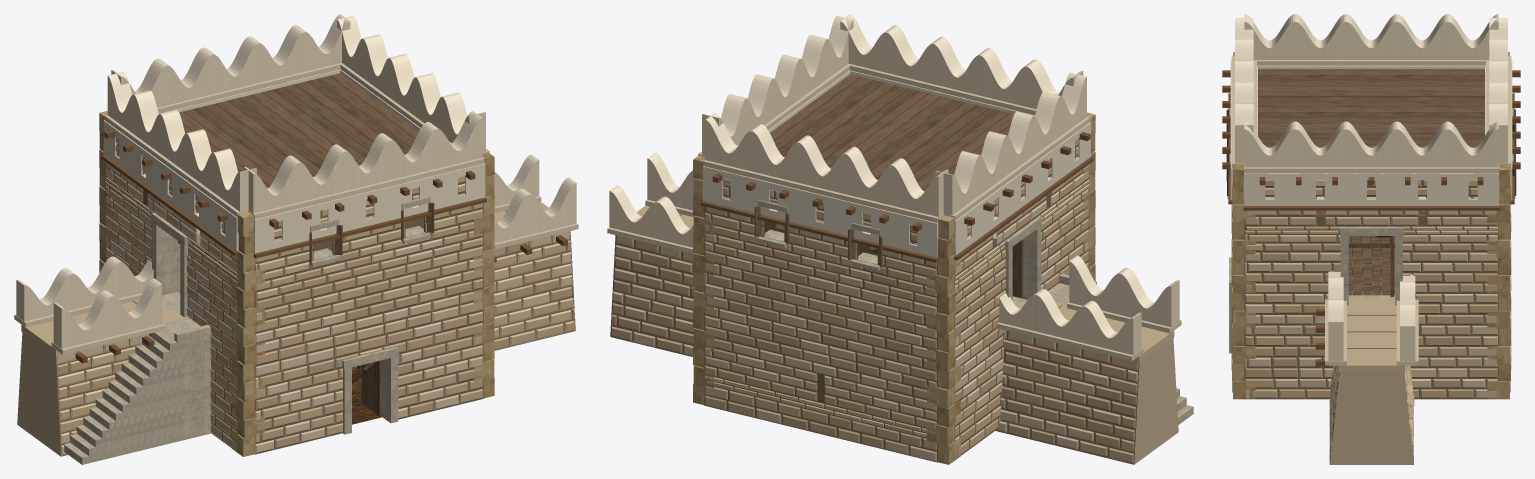
Rendered from stonetower@2.glb.
3 renders of one model, left to right at view 1: azimuth 30°, elevation 25°; view 2: azimuth 150°, elevation 25°; view 3: azimuth 270°, elevation 25°, orthographic. The views are drawn at different scales.
Parts seen in each view (by area): view 1: part_2, part_9, part_1, part_3, part_31, part_33, part_12, part_4, part_6, part_5, part_32, part_28 (+7 smaller); view 2: part_2, part_9, part_3, part_26, part_33, part_1, part_4, part_5, part_12, part_6, part_28, part_32 (+6 smaller); view 3: part_2, part_9, part_3, part_29, part_14, part_12, part_5, part_6, part_4, part_1, part_30, part_34 (+7 smaller).
Part boxes in pixels (x1,y1,x2,y2): part_2: [17, 69, 575, 456]; part_9: [16, 14, 576, 348]; part_1: [63, 196, 430, 464]; part_3: [178, 73, 434, 416]; part_31: [253, 163, 485, 253]; part_33: [103, 120, 238, 251]; part_12: [75, 130, 567, 363]; part_4: [99, 111, 494, 456]; part_6: [99, 131, 494, 420]; part_5: [99, 149, 494, 438]; part_32: [248, 157, 484, 219]; part_28: [157, 63, 342, 113]; part_2: [610, 70, 1178, 464]; part_9: [609, 14, 1179, 355]; part_3: [754, 74, 1023, 298]; part_26: [702, 166, 938, 257]; part_33: [953, 122, 1090, 255]; part_1: [758, 200, 1193, 424]; part_4: [693, 112, 1095, 464]; part_5: [693, 151, 1095, 446]; part_12: [698, 132, 1093, 262]; part_6: [693, 133, 1095, 427]; part_28: [703, 160, 943, 222]; part_32: [850, 64, 1036, 115]; part_2: [1231, 173, 1511, 464]; part_9: [1235, 14, 1507, 360]; part_3: [1226, 69, 1516, 296]; part_29: [1243, 173, 1499, 205]; part_14: [1338, 298, 1404, 372]; part_12: [1222, 70, 1520, 366]; part_5: [1232, 165, 1510, 399]; part_6: [1232, 165, 1510, 399]; part_4: [1232, 52, 1510, 381]; part_1: [1227, 108, 1515, 353]; part_30: [1244, 163, 1498, 172]; part_34: [1253, 60, 1489, 65].
Size of the model in its own units: 12.05 by 6.45 by 6.29.
Materials: 21 (10 with a texture image).
